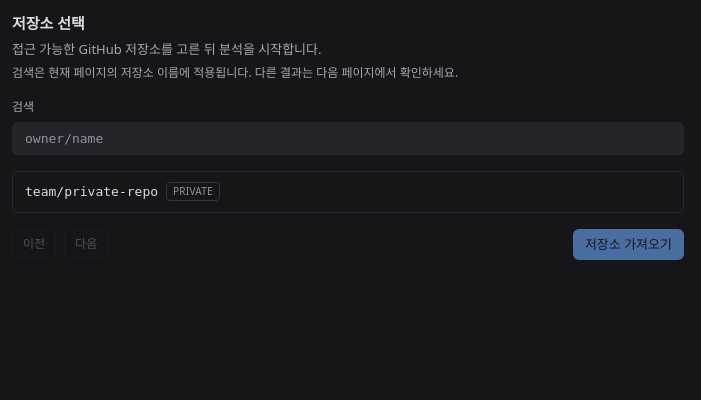
it: GitHub App installation repository selection › retains the import conflict when lookup fails, without guessing a project id
Click the option "team/private-repo private" at point(92, 192), box [13, 172, 683, 212]
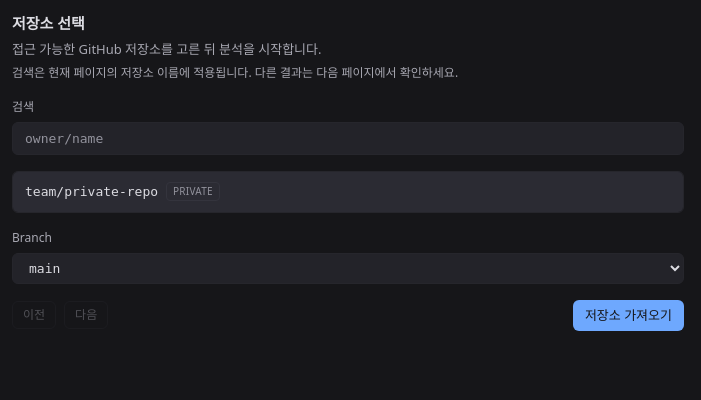
Expected: the button "저장소 가져오기" is enabled
Click the button "저장소 가져오기" at point(628, 315), box [573, 300, 684, 331]
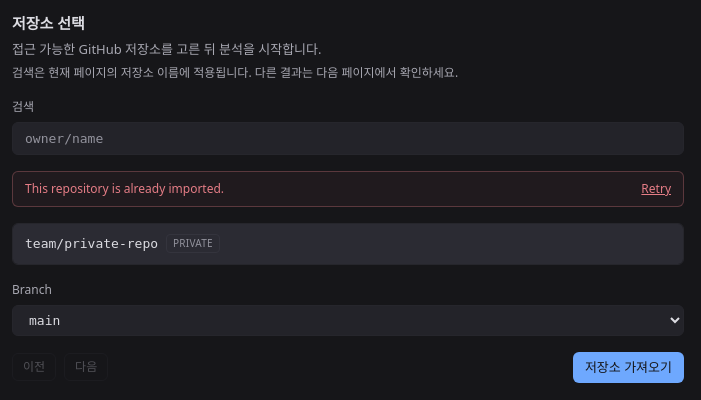
Expected: the message shows "This repository is already imported.", [25, 180, 224, 197]
